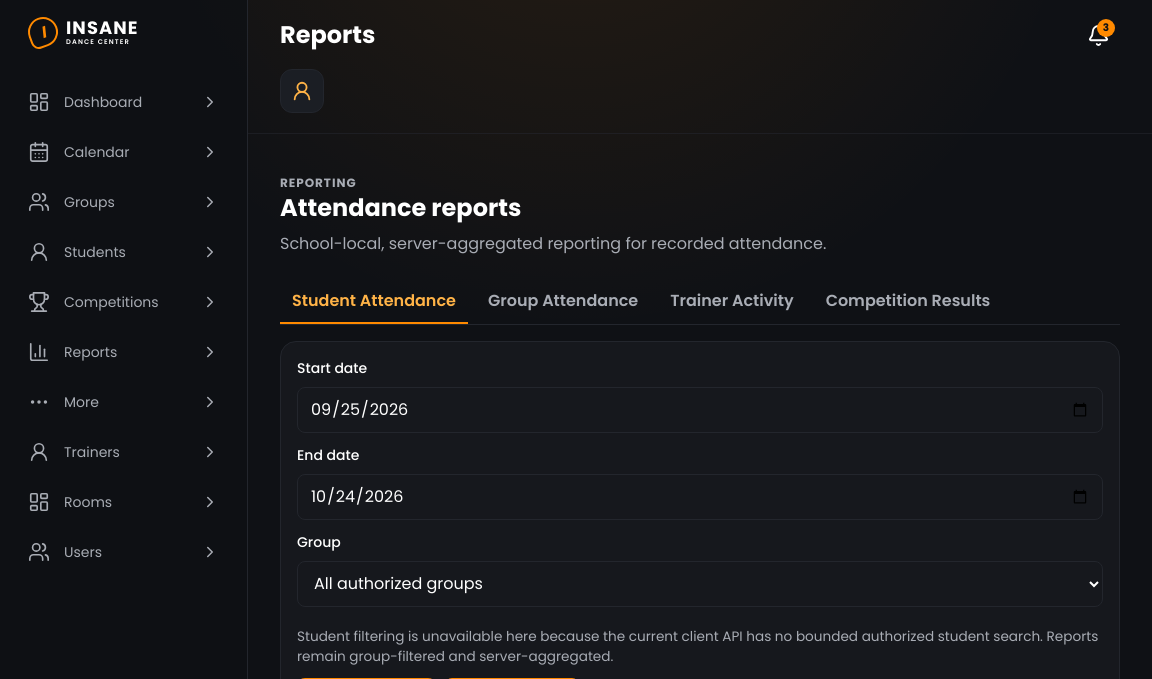
it: ReportsPage › renders no-result and separate competition result rows with bounded member display and trend data
Click the tab "Competition Results": (908, 302) x1=814 y1=280 x2=1002 y2=324
(page scrolled)
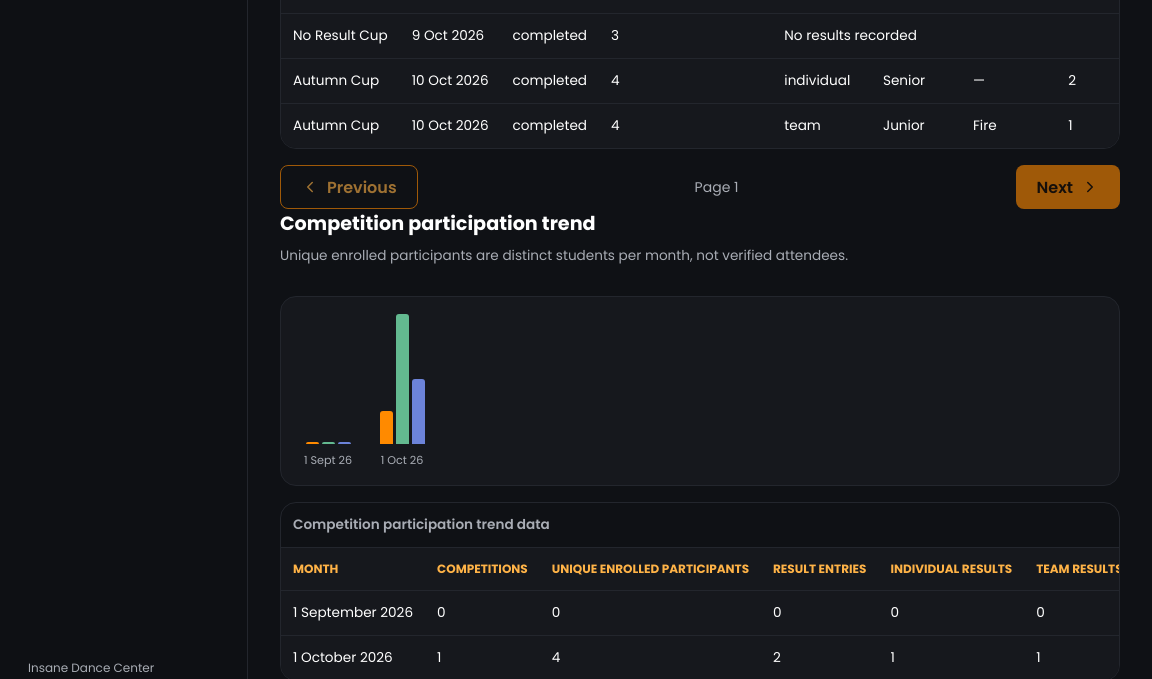
Check: the text "No results recorded" is shown, box x1=784 y1=26 x2=917 y2=45
Check: the text "individual" is shown, box x1=772 y1=59 x2=871 y2=104
Check: the text "team" is shown, box x1=772 y1=104 x2=871 y2=148
